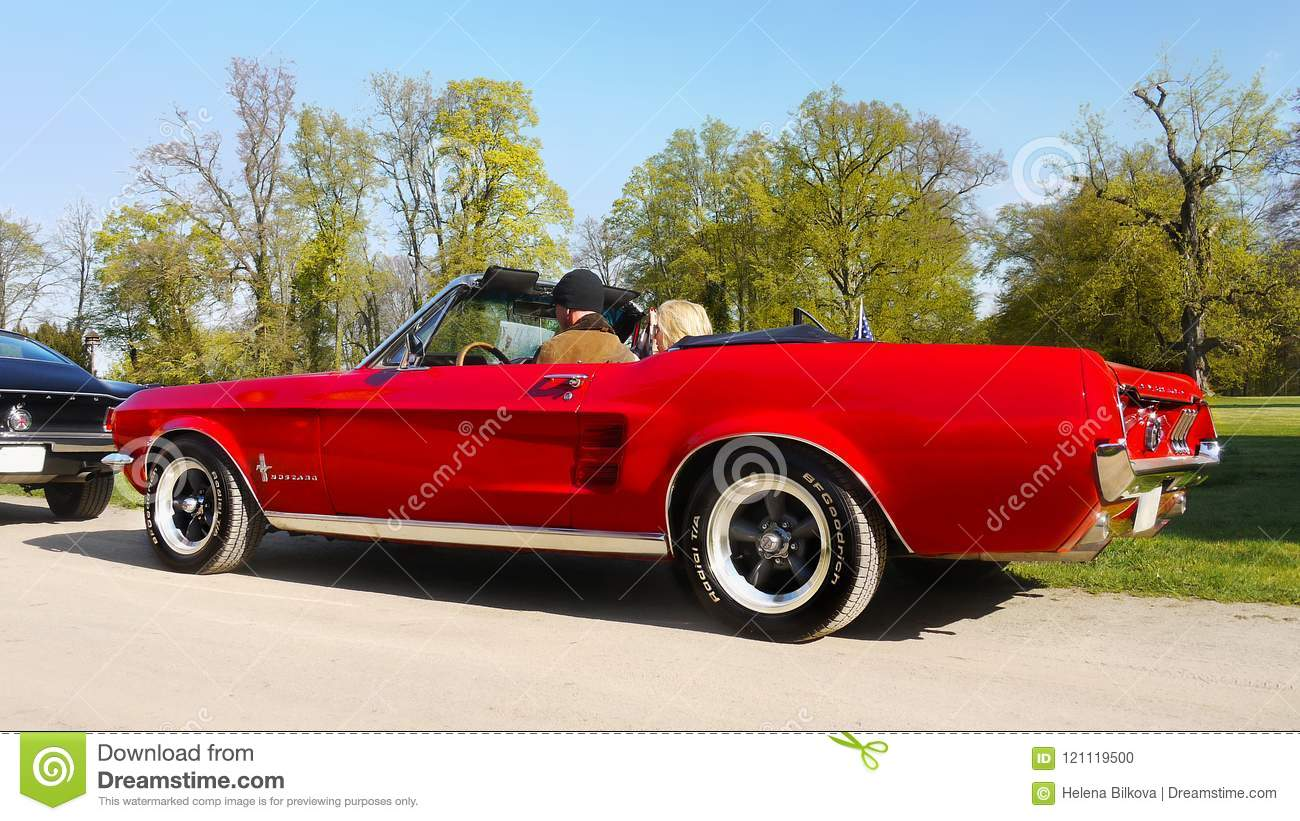Carro: (103, 261, 1232, 651), (1, 326, 170, 525)
